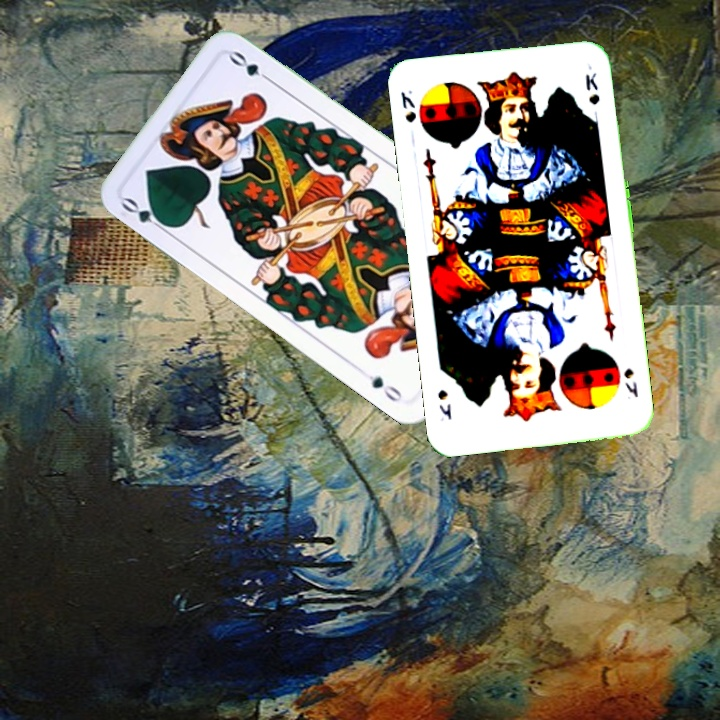GO: (117, 193, 173, 236)
SK: (397, 86, 419, 125), (620, 364, 641, 400)
